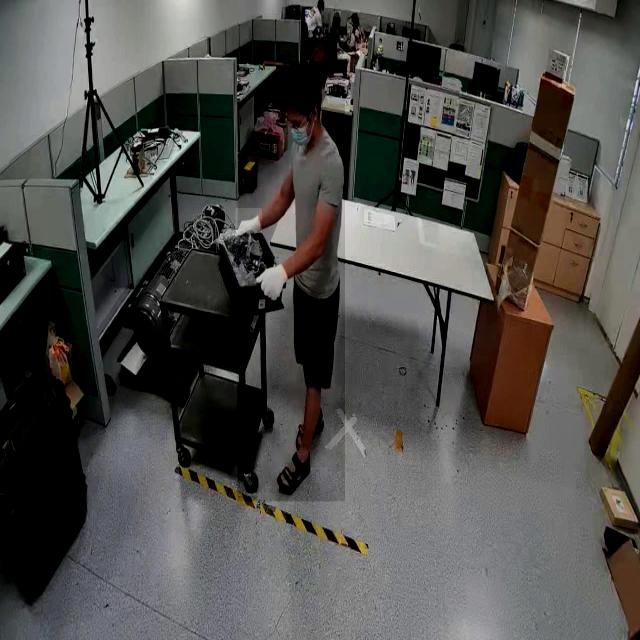face_mask: (288, 111, 317, 153)
hand_glove: (252, 254, 294, 307), (235, 208, 262, 242)
head_nohelmet: (283, 61, 322, 102), (350, 10, 360, 18), (333, 10, 341, 18), (318, 0, 325, 5)
person: (237, 65, 345, 502)
